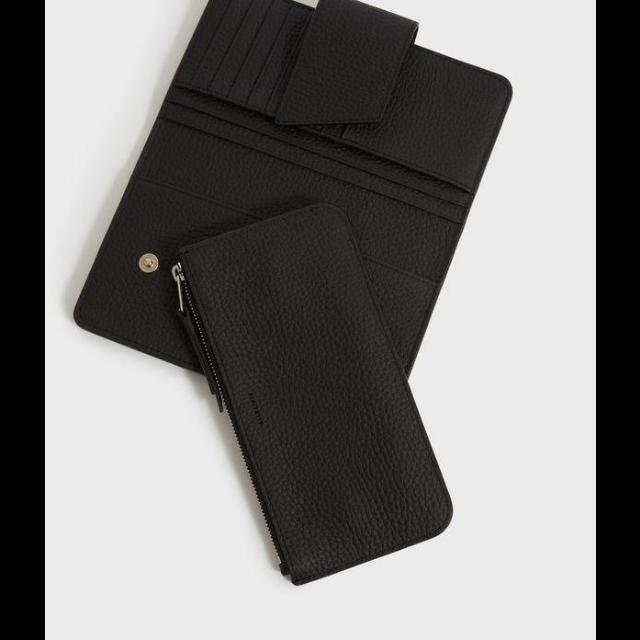wallet: (162, 190, 466, 596)
